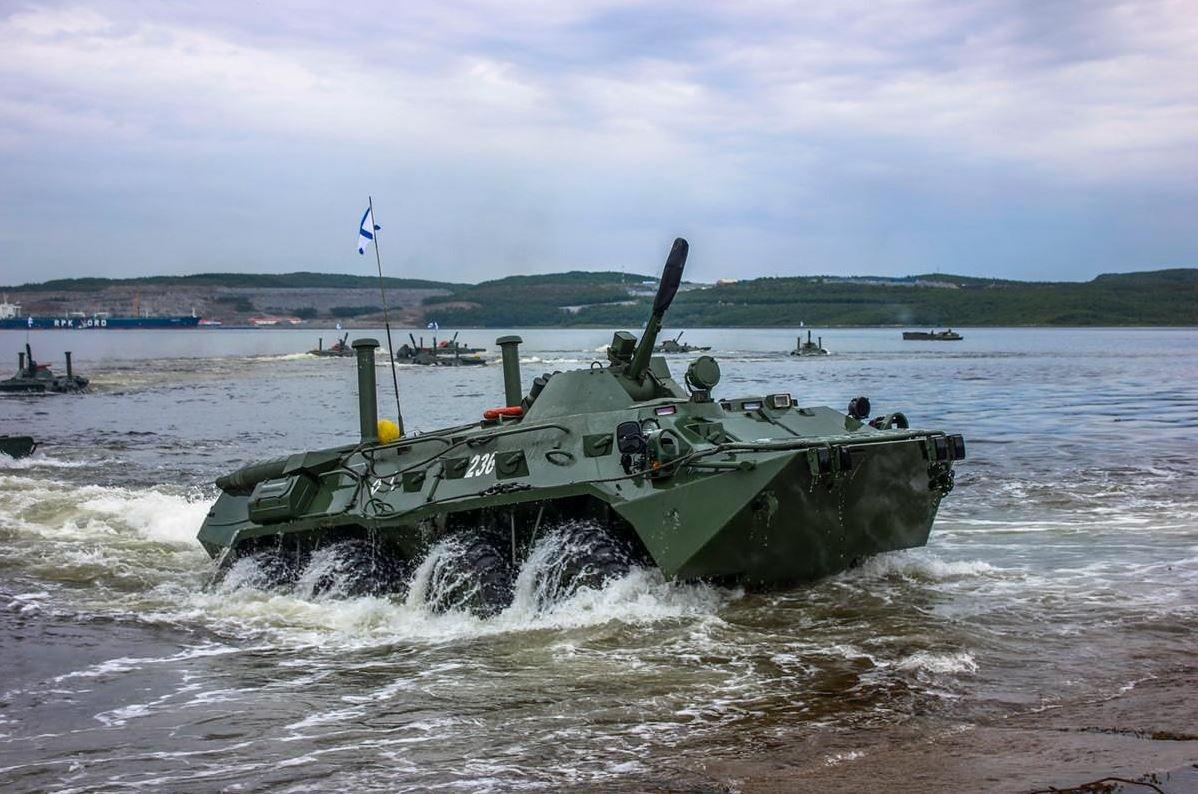tank: (197, 238, 966, 622), (0, 341, 90, 394)
